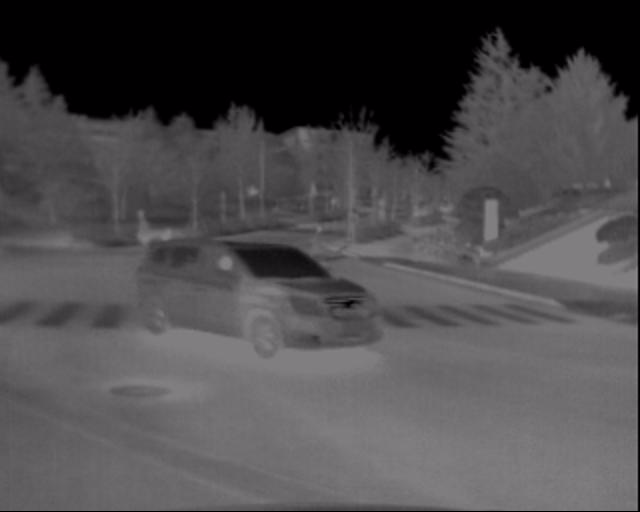person: (114, 217, 188, 313), (307, 221, 327, 262), (133, 211, 153, 250)
